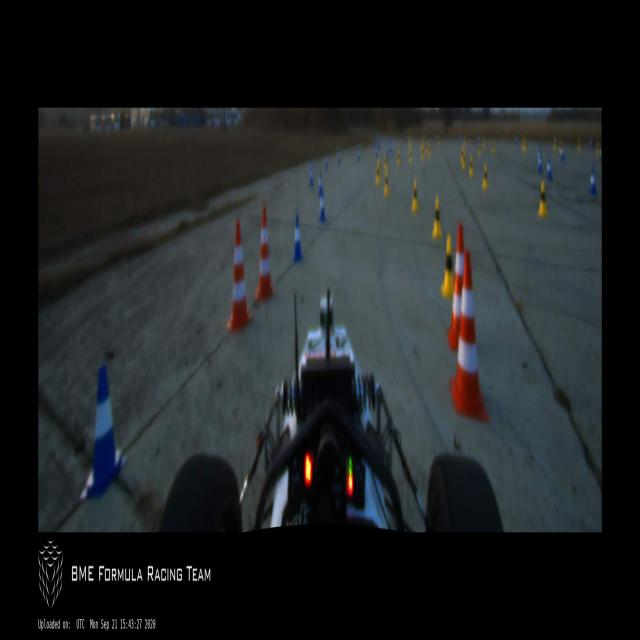blue_cone: (80, 364, 126, 502), (292, 216, 304, 262), (319, 188, 326, 221), (589, 168, 597, 195), (546, 157, 552, 180), (537, 152, 543, 174), (318, 172, 323, 196), (309, 168, 314, 186), (308, 158, 312, 176), (337, 150, 341, 165), (325, 155, 328, 171), (357, 146, 360, 162)
large_orange_cone: (451, 250, 489, 424), (228, 222, 252, 332), (446, 222, 466, 350), (254, 206, 276, 302)
yellow_cone: (438, 233, 456, 298), (432, 196, 442, 238), (538, 182, 549, 216), (412, 181, 419, 210), (482, 165, 489, 189), (384, 170, 389, 196), (376, 163, 381, 186), (469, 155, 474, 177), (462, 152, 466, 170), (384, 154, 387, 172)
